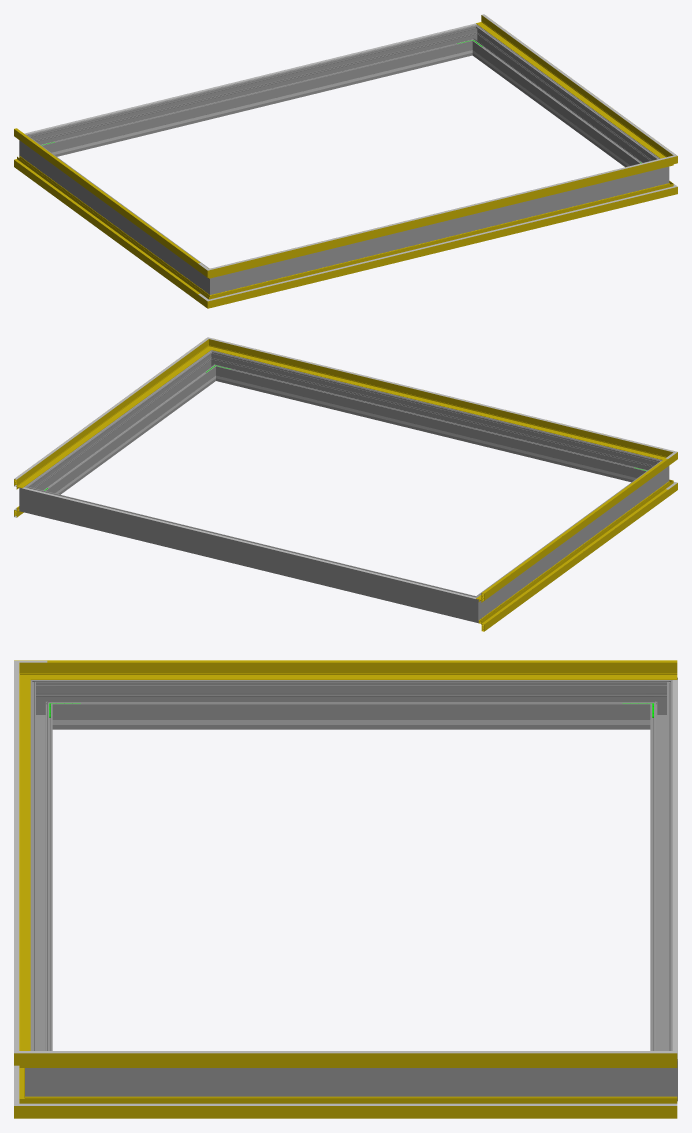
3 renders of one model, top to bottom at view 1: azimuth 30°, elevation 25°; view 2: azimuth 150°, elevation 25°; view 3: azimuth 270°, elevation 25°, orthographic. The views are drawn at different scales.
Visible parts, largest first — view 1: 3DGeom-278, 3DGeom-300, 3DGeom-90, 3DGeom-299, 3DGeom-56, 3DGeom-270, 3DGeom-85, 3DGeom-58, 3DGeom-50, 3DGeom-246, 3DGeom-222, 3DGeom-66 (+6 smaller); view 2: 3DGeom-300, 3DGeom-278, 3DGeom-299, 3DGeom-56, 3DGeom-270, 3DGeom-85, 3DGeom-58, 3DGeom-50, 3DGeom-241, 3DGeom-222, 3DGeom-66, 3DGeom-280 (+5 smaller); view 3: 3DGeom-270, 3DGeom-299, 3DGeom-97, 3DGeom-50, 3DGeom-58, 3DGeom-300, 3DGeom-278, 3DGeom-56, 3DGeom-234, 3DGeom-222, 3DGeom-66, 3DGeom-64 (+7 smaller).
Boxes of the visible parts, x1,y1,x2,y2 form: 3DGeom-278: (38, 28, 469, 156); 3DGeom-300: (227, 171, 652, 290); 3DGeom-90: (221, 186, 661, 304); 3DGeom-299: (474, 30, 656, 167); 3DGeom-56: (223, 160, 661, 275); 3DGeom-270: (29, 140, 205, 287); 3DGeom-85: (14, 156, 203, 301); 3DGeom-58: (476, 15, 665, 157); 3DGeom-50: (14, 129, 197, 270); 3DGeom-246: (57, 54, 456, 153); 3DGeom-222: (24, 23, 476, 134); 3DGeom-66: (223, 159, 660, 266); 3DGeom-300: (218, 353, 650, 482); 3DGeom-278: (36, 489, 464, 618); 3DGeom-299: (32, 356, 214, 494); 3DGeom-56: (220, 342, 659, 458); 3DGeom-270: (483, 466, 659, 612); 3DGeom-85: (478, 486, 668, 631); 3DGeom-58: (14, 345, 206, 489); 3DGeom-50: (476, 459, 668, 602); 3DGeom-241: (232, 379, 630, 479); 3DGeom-222: (22, 487, 476, 598); 3DGeom-66: (223, 341, 660, 448); 3DGeom-280: (461, 591, 488, 623); 3DGeom-270: (58, 680, 644, 729); 3DGeom-299: (58, 1068, 644, 1096); 3DGeom-97: (47, 1096, 677, 1118); 3DGeom-50: (47, 660, 677, 679); 3DGeom-58: (47, 1053, 677, 1067); 3DGeom-300: (30, 691, 52, 1050); 3DGeom-278: (650, 691, 672, 1050); 3DGeom-56: (19, 674, 30, 1050); 3DGeom-234: (84, 720, 618, 724); 3DGeom-222: (672, 679, 677, 1059); 3DGeom-66: (14, 674, 19, 1039); 3DGeom-64: (47, 1051, 677, 1053).
Bounding box in the file's own units: 4.27 × 0.3303 × 3.05.
